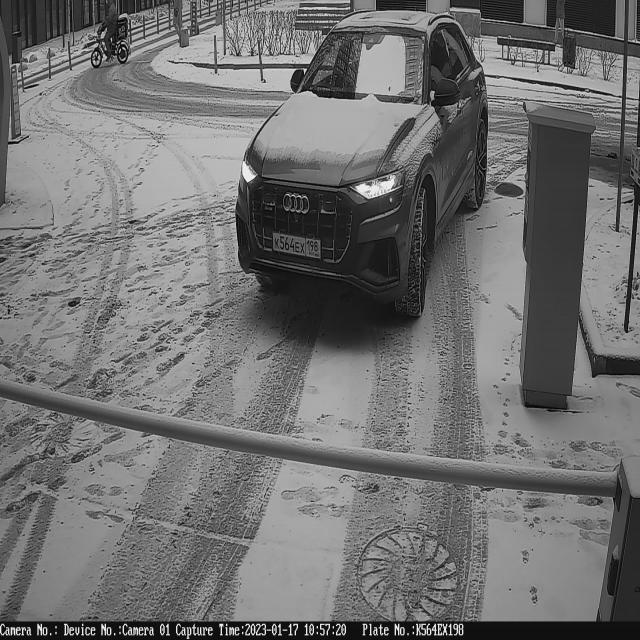car-plate-numbers: (268, 225, 324, 269)
